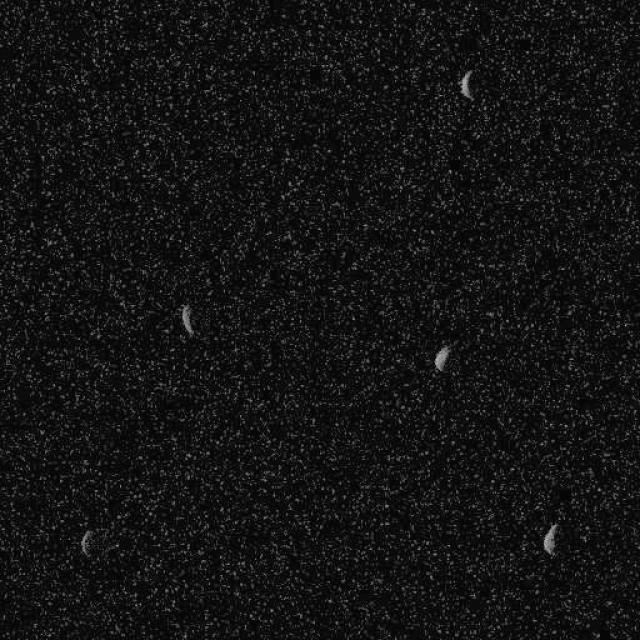D2: (541, 522, 559, 558), (432, 343, 450, 372), (180, 302, 195, 336), (78, 528, 94, 558), (458, 69, 473, 100)
